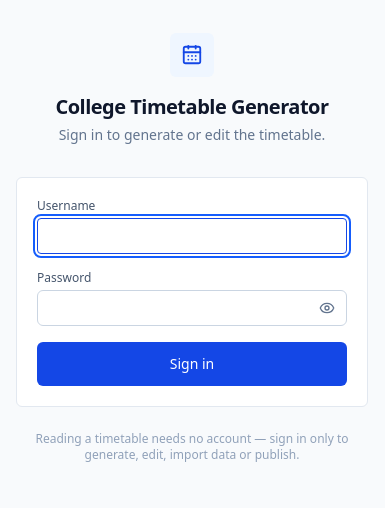
Test: signing in › does say so when the password really is wrong
Type "admin" into the field labelled "Username" at [192, 236], box left=37, top=218, right=347, bottom=254
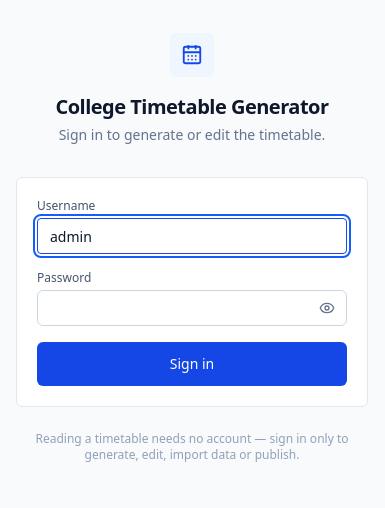
Type "secret" into the password field labelled "Password" at [192, 308], box left=37, top=290, right=347, bottom=326
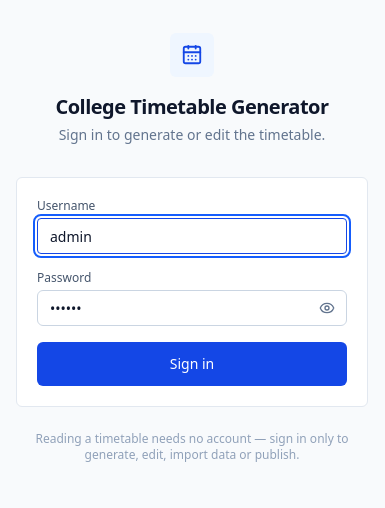
Click the button "Sign in" at [192, 364], box left=37, top=342, right=347, bottom=386
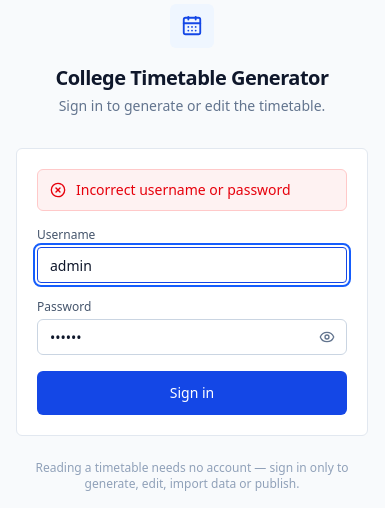
Expected: the message reads "Incorrect username or password", left=76, top=180, right=291, bottom=199
